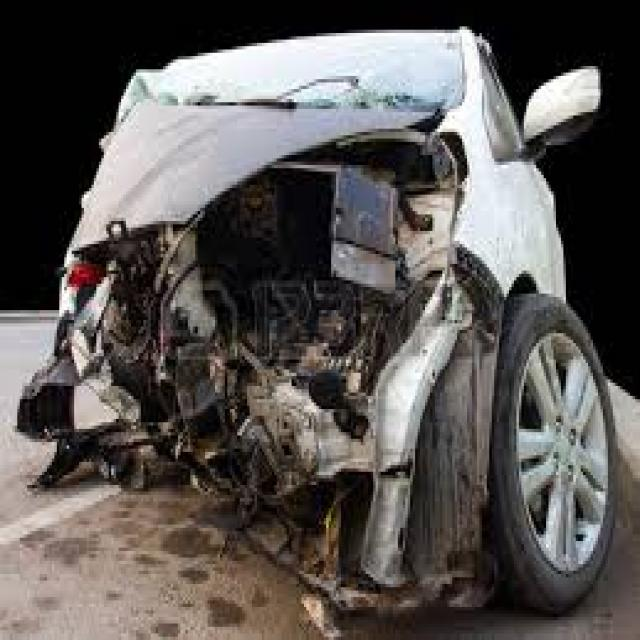severe: (40, 69, 518, 640)
